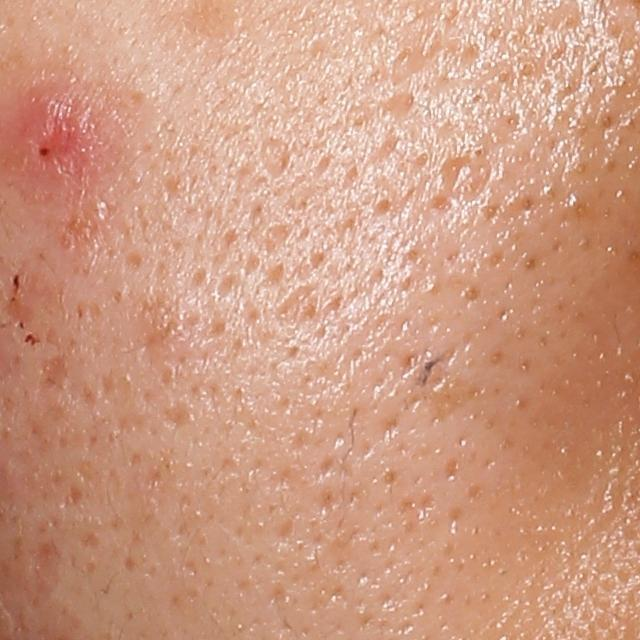atrophic_scar: (23, 537, 63, 604), (271, 284, 323, 328), (259, 133, 296, 181), (434, 154, 471, 198), (367, 92, 416, 121), (40, 353, 67, 387)
papule: (1, 75, 107, 193)
